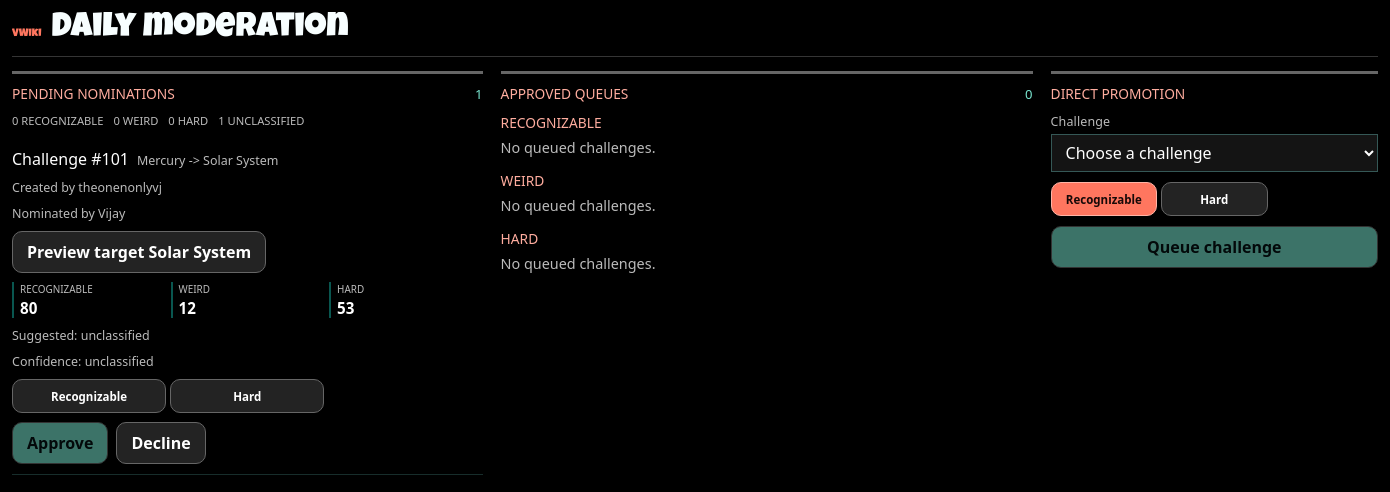
Test: AdminDailies › requires a scheduled flavor override for a null nomination
Expected: the button with aria-label "Approve Challenge #101 Mercury to Solar System" is disabled, [12,422,108,464]
Click the button "Recognizable" below "Confidence:" at x=89, y=396, box [12,379,166,413]
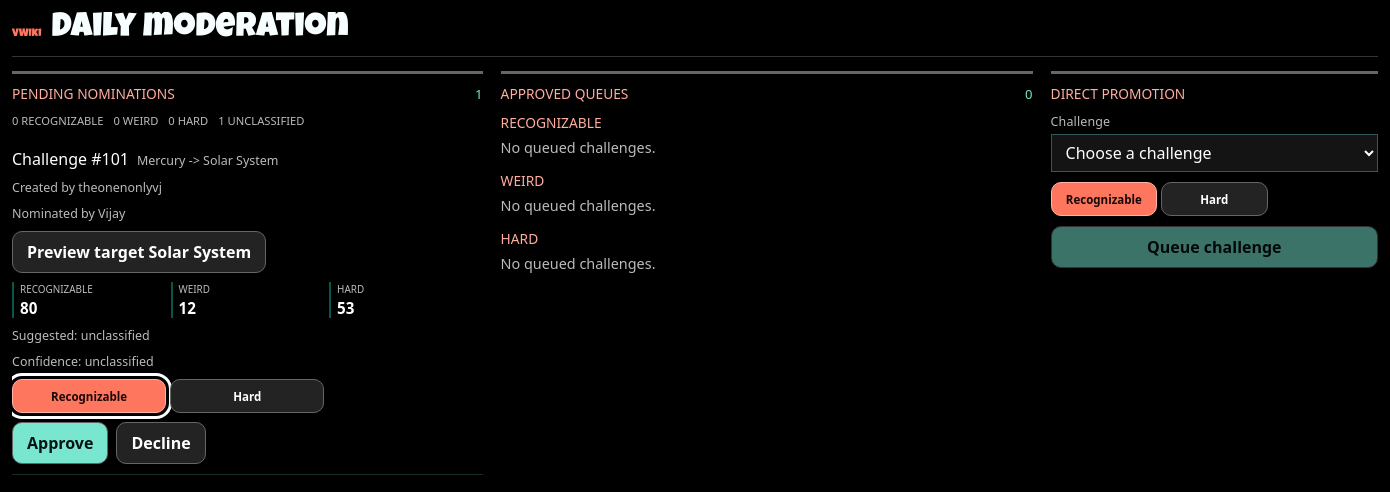
Now the button with aria-label "Approve Challenge #101 Mercury to Solar System" is enabled, box [12,422,108,464]
